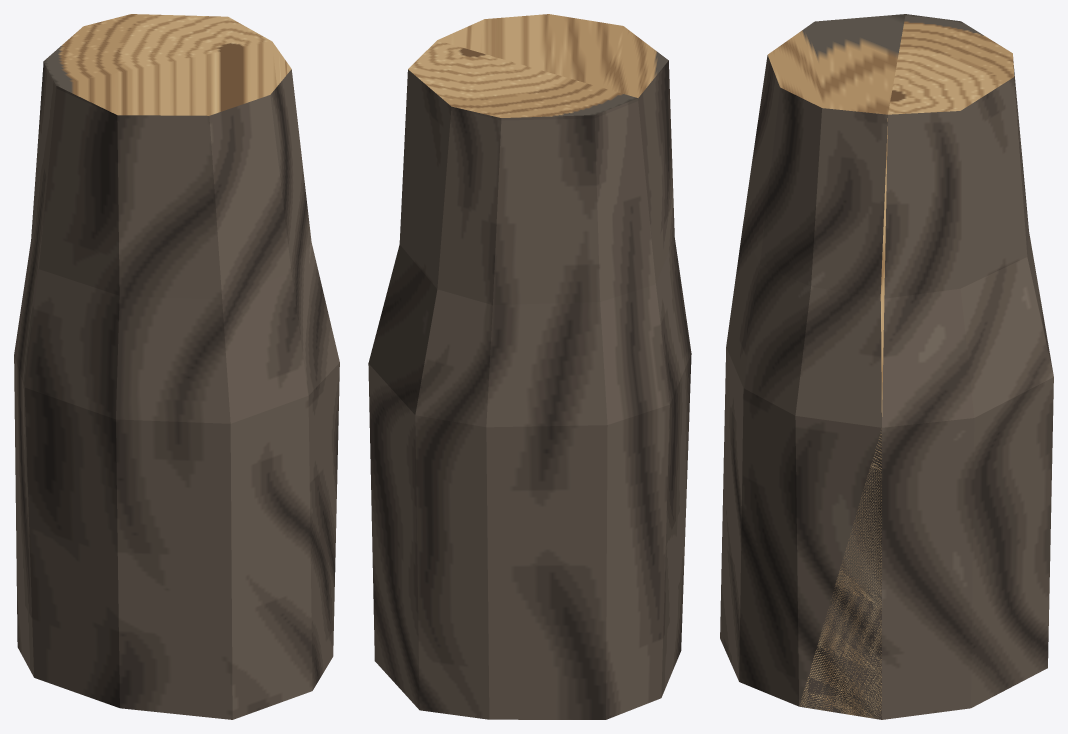
The model's file is environment_fir4_stump_v1.fbx.
3 renders of one model, left to right at view 1: azimuth 30°, elevation 25°; view 2: azimuth 150°, elevation 25°; view 3: azimuth 270°, elevation 25°, orthographic.
Visible parts, largest first — view 1: environment_fir4_stump_v1; view 2: environment_fir4_stump_v1; view 3: environment_fir4_stump_v1.
Part boxes in pixels (x1,y1,x2,y2): environment_fir4_stump_v1: (14,14,339,719); environment_fir4_stump_v1: (368,14,691,719); environment_fir4_stump_v1: (720,14,1053,719).
Bounding box in the file's own units: 101 × 200 × 104.
